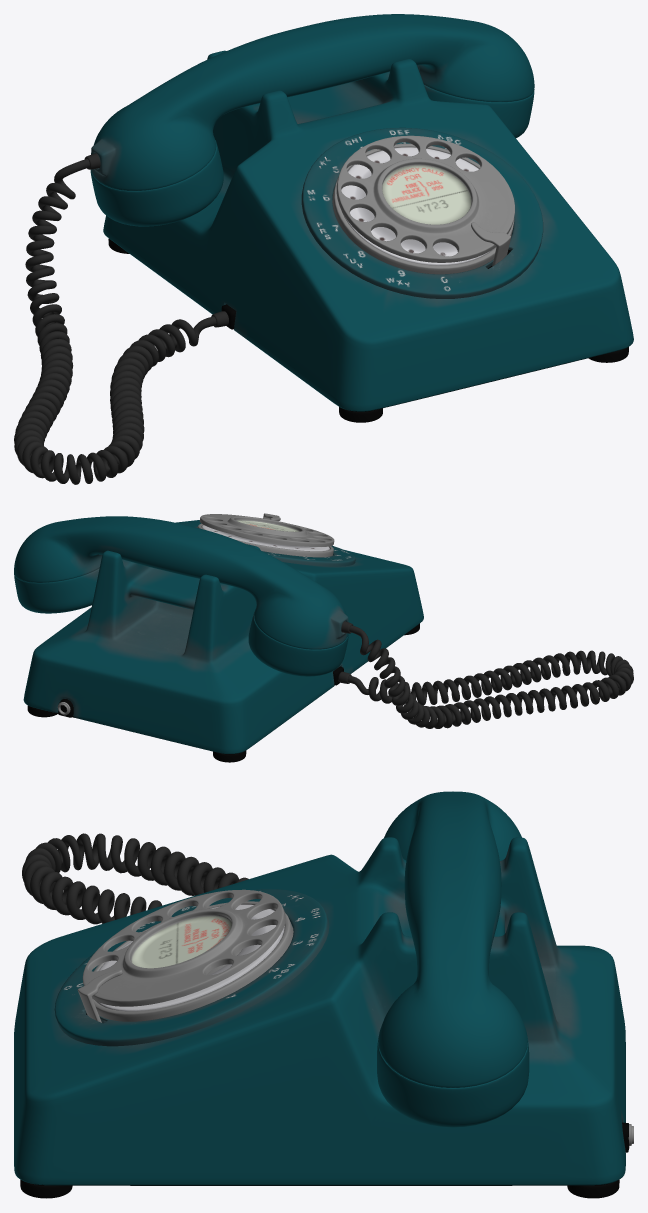
3 renders of one model, top to bottom at view 1: azimuth 30°, elevation 25°; view 2: azimuth 150°, elevation 25°; view 3: azimuth 270°, elevation 25°, orthographic. The views are drawn at different scales.
Visible parts, largest first — view 1: phone_power_port_geo.002_Baked; view 2: phone_power_port_geo.002_Baked; view 3: phone_power_port_geo.002_Baked.
Boxes of the visible parts, x1,y1,x2,y2 form: phone_power_port_geo.002_Baked: [14, 14, 633, 484]; phone_power_port_geo.002_Baked: [14, 513, 633, 762]; phone_power_port_geo.002_Baked: [14, 791, 633, 1198].
Size of the model in its own units: 234 by 77.15 by 163.
1 material, 1 textured.
